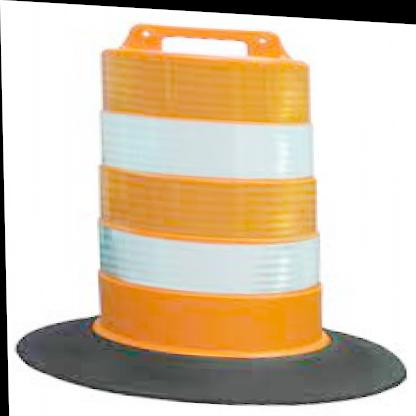obstacle: (75, 23, 336, 374)
